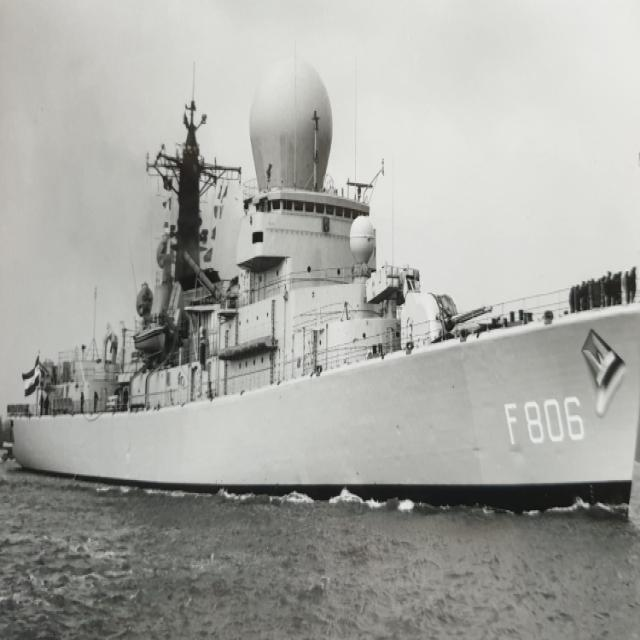Fragata: (9, 35, 640, 502)
